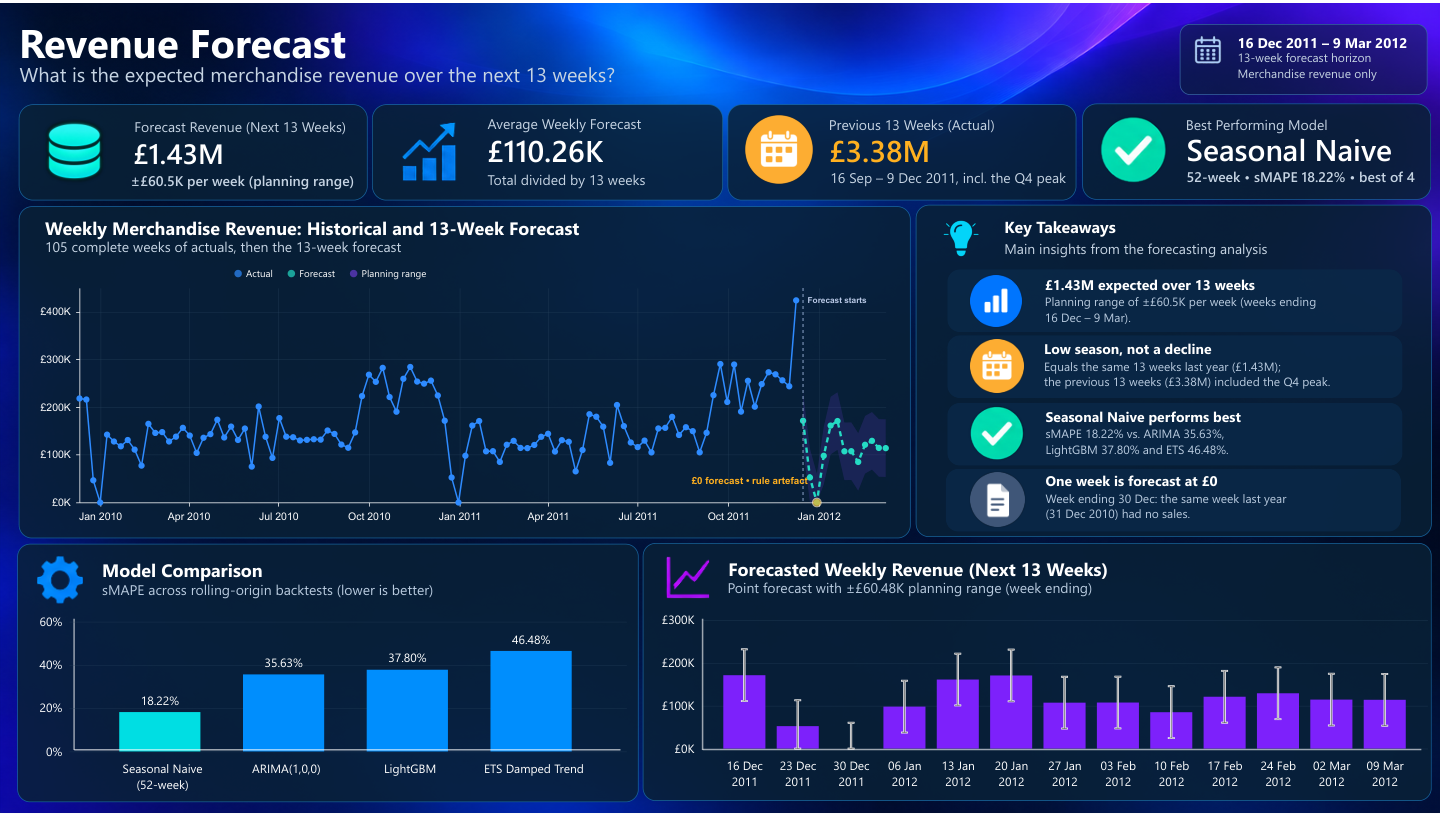

This screenshot's page, from the dashboard's own definition file:
{"tool":"powerbi","page":{"name":"Revenue Forecast","canvas":[1920,1080],"ordinal":2},"visuals":[{"type":"textbox","box":[25,14.3,628.6,76.8],"z":0},{"type":"shape","box":[1443.3,133,465.2,128.3],"z":0,"group":"g3"},{"type":"shape","box":[496.4,133.9,468,128.3],"z":0,"group":"g1"},{"type":"shape","box":[969.6,133.9,465.2,128.3],"z":0,"group":"g2"},{"type":"cardVisual","fields":{"Data":["weekly_revenue_history.Previous 13 Weeks Actual"]},"box":[1089,154,187.5,80.4],"z":1000,"group":"g2"},{"type":"cardVisual","fields":{"Data":["forecast_kpis.Selected Model Name"]},"box":[1566.1,154,316.1,78.6],"z":1000,"group":"g3"},{"type":"cardVisual","fields":{"Data":["Sum(forecast_kpis.average_weekly_forecast)"]},"box":[633,158,195.7,73.8],"z":1000,"group":"g1"},{"type":"shape","box":[25,269.6,1189.3,442.9],"z":1000},{"type":"textbox","box":[650,146.6,275,33.9],"z":2000,"group":"g1"},{"type":"textbox","box":[1105,148,275,33.9],"z":2000,"group":"g2"},{"type":"textbox","box":[1581.2,148.1,275,33.9],"z":2000,"group":"g3"},{"type":"shape","box":[1221.2,268.4,688,443.1],"z":2000},{"type":"textbox","box":[25.8,74.8,982.7,46.4],"z":3000},{"type":"image","box":[1420.3,119.8,181.9,149.5],"z":3000,"group":"g3"},{"type":"image","box":[497.9,127,151.8,141.1],"z":3000,"group":"g1"},{"type":"image","box":[985,148.3,107.1,92.9],"z":3000,"group":"g2"},{"type":"textbox","box":[1339.3,282.1,233.9,37.5],"z":4000},{"type":"textbox","box":[60,282.1,876.8,35.7],"z":5000},{"type":"textbox","box":[60,311,593.6,38.5],"z":6000},{"type":"textbox","box":[1339.3,312.5,414.3,37.5],"z":7000},{"type":"shape","box":[1573.2,26.8,330.4,94.6],"z":8000},{"type":"textbox","box":[1650,39.3,244.6,35.7],"z":9000},{"type":"textbox","box":[1650,60.7,225,60.7],"z":10000},{"type":"image","box":[1546.4,21.4,128.6,78.6],"z":11000},{"type":"shape","box":[25,133.9,465.2,128.3],"z":12000},{"type":"group","id":"g1","title":"Group 1","box":[496.4,127,468,141.1],"z":13000},{"type":"group","id":"g2","title":"Group 1","box":[969.6,133.9,465.2,128.3],"z":14000},{"type":"cardVisual","fields":{"Data":["Sum(forecast_kpis.forecast_total_13w)"]},"box":[160.7,159,166.8,77],"z":15000},{"type":"group","id":"g3","title":"Group 1","box":[1420.3,119.8,488.3,149.5],"z":16000},{"type":"textbox","box":[179,151,301.6,32.1],"z":17000},{"type":"image","box":[30,133.9,139.3,128.6],"z":18000},{"type":"shape","box":[23.2,719.6,828.6,344.6],"z":19000},{"type":"textbox","box":[135.7,737.5,450,32.1],"z":20000},{"type":"textbox","box":[135.7,767.9,491.1,30.4],"z":21000},{"type":"image","box":[44.6,732.1,71.4,73.2],"z":22000},{"type":"shape","box":[1262.5,353.6,607.1,83.9],"z":23000},{"type":"textbox","box":[650,221.4,323.2,37.5],"z":24000},{"type":"textbox","box":[1106.7,219.2,359.9,40.6],"z":25000},{"type":"shape","box":[39.3,819.6,119.6,175],"z":26000},{"type":"cardVisual","fields":{"Data":["forecast_kpis.Selected Model Subtitle"]},"box":[1566.1,202,337.5,57.1],"z":27000},{"type":"cardVisual","fields":{"Data":["forecast_kpis.Forecast Error Margin Label"]},"box":[158,211,343.3,48.1],"z":28000},{"type":"deneb7E15AEF80B9E4D4F8E12924291ECE89A","fields":{"dataset":["revenue_forecast_timeline.week_end","revenue_forecast_timeline.actual_revenue","revenue_forecast_timeline.forecast_revenue","revenue_forecast_timeline.lower_bound","revenue_forecast_timeline.upper_bound","revenue_forecast_timeline.zero_forecast_rule_artefact"]},"box":[32.1,330.4,1176.8,382.1],"z":29000},{"type":"clusteredColumnChart","fields":{"Category":["forecast_model_comparison.model"],"Y":["forecast_model_comparison.sMAPE %"]},"box":[32.4,797.9,819.5,272],"z":30000},{"type":"shape","box":[99.1,952.8,728.3,83.5],"z":31000},{"type":"shape","box":[857.3,718.6,1051.9,344],"z":32000},{"type":"textbox","box":[970.8,736.7,529.5,32.4],"z":33000},{"type":"textbox","box":[969.6,766.1,532.1,32.1],"z":34000},{"type":"image","box":[881,733.1,72,63],"z":35000},{"type":"clusteredColumnChart","fields":{"Category":["weekly_revenue_forecast.Week Label"],"Y":["Sum(weekly_revenue_forecast.forecast_revenue)"]},"box":[866.3,796.1,1053.7,270.2],"z":36000},{"type":"image","box":[1264.3,360.7,128.6,71.4],"z":37000},{"type":"shape","box":[1262.5,442,607.1,83.9],"z":38000},{"type":"image","box":[1286,446,86.5,73.8],"z":39000},{"type":"image","box":[1219.6,271.4,123.2,82.1],"z":40000},{"type":"shape","box":[1262.5,532,607.1,83.9],"z":41000},{"type":"shape","box":[1260.7,620,607.1,83.9],"z":42000},{"type":"textbox","box":[1392.9,360.7,380.4,76.8],"z":43000},{"type":"textbox","box":[1392.3,446.7,392.6,79.2],"z":44000},{"type":"image","box":[1257.2,511,144.1,122.5],"z":45000},{"type":"textbox","box":[1394.1,536.7,324.2,75.6],"z":46000},{"type":"image","box":[1282.4,623,95.5,75.6],"z":47000},{"type":"textbox","box":[1394.1,623.2,392.6,73.8],"z":48000},{"type":"shape","box":[877.1,819.5,119.6,175],"z":49000},{"type":"shape","box":[936.6,952.8,958.2,82.9],"z":50000}]}

Visuals, with their boxes in screenshot pixels (x1, y1, x2, y2), scaled from the page's 1920x1080 canvas onto the 1440x818 screenshot:
textbox: l=19, t=11, r=490, b=69
shape: l=1082, t=101, r=1431, b=198
shape: l=372, t=101, r=723, b=199
shape: l=727, t=101, r=1076, b=199
cardVisual - weekly_revenue_history.Previous 13 Weeks Actual: l=817, t=117, r=957, b=178
cardVisual - forecast_kpis.Selected Model Name: l=1175, t=117, r=1412, b=176
cardVisual - Sum(forecast_kpis.average_weekly_forecast): l=475, t=120, r=622, b=176
shape: l=19, t=204, r=911, b=540
textbox: l=488, t=111, r=694, b=137
textbox: l=829, t=112, r=1035, b=138
textbox: l=1186, t=112, r=1392, b=138
shape: l=916, t=203, r=1432, b=539
textbox: l=19, t=57, r=756, b=92
image: l=1065, t=91, r=1202, b=204
image: l=373, t=96, r=487, b=203
image: l=739, t=112, r=819, b=183
textbox: l=1004, t=214, r=1180, b=242
textbox: l=45, t=214, r=703, b=241
textbox: l=45, t=236, r=490, b=265
textbox: l=1004, t=237, r=1315, b=265
shape: l=1180, t=20, r=1428, b=92
textbox: l=1238, t=30, r=1421, b=57
textbox: l=1238, t=46, r=1406, b=92
image: l=1160, t=16, r=1256, b=76
shape: l=19, t=101, r=368, b=199
"Group 1" group: l=372, t=96, r=723, b=203
"Group 1" group: l=727, t=101, r=1076, b=199
cardVisual - Sum(forecast_kpis.forecast_total_13w): l=121, t=120, r=246, b=179
"Group 1" group: l=1065, t=91, r=1431, b=204
textbox: l=134, t=114, r=360, b=139
image: l=22, t=101, r=127, b=199
shape: l=17, t=545, r=639, b=806
textbox: l=102, t=559, r=439, b=583
textbox: l=102, t=582, r=470, b=605
image: l=33, t=554, r=87, b=610
shape: l=947, t=268, r=1402, b=331
textbox: l=488, t=168, r=730, b=196
textbox: l=830, t=166, r=1100, b=197
shape: l=29, t=621, r=119, b=753
cardVisual - forecast_kpis.Selected Model Subtitle: l=1175, t=153, r=1428, b=196
cardVisual - forecast_kpis.Forecast Error Margin Label: l=118, t=160, r=376, b=196
deneb7E15AEF80B9E4D4F8E12924291ECE89A - revenue_forecast_timeline.week_end x revenue_forecast_timeline.actual_revenue: l=24, t=250, r=907, b=540
clusteredColumnChart - forecast_model_comparison.model x forecast_model_comparison.sMAPE %: l=24, t=604, r=639, b=810
shape: l=74, t=722, r=621, b=785
shape: l=643, t=544, r=1432, b=805
textbox: l=728, t=558, r=1125, b=583
textbox: l=727, t=580, r=1126, b=605
image: l=661, t=555, r=715, b=603
clusteredColumnChart - weekly_revenue_forecast.Week Label x Sum(weekly_revenue_forecast.forecast_revenue): l=650, t=603, r=1439, b=808
image: l=948, t=273, r=1045, b=327
shape: l=947, t=335, r=1402, b=398
image: l=964, t=338, r=1029, b=394
image: l=915, t=206, r=1007, b=268
shape: l=947, t=403, r=1402, b=466
shape: l=946, t=470, r=1401, b=533
textbox: l=1045, t=273, r=1330, b=331
textbox: l=1044, t=338, r=1339, b=398
image: l=943, t=387, r=1051, b=480
textbox: l=1046, t=407, r=1289, b=464
image: l=962, t=472, r=1033, b=529
textbox: l=1046, t=472, r=1340, b=528
shape: l=658, t=621, r=748, b=753
shape: l=702, t=722, r=1421, b=784
